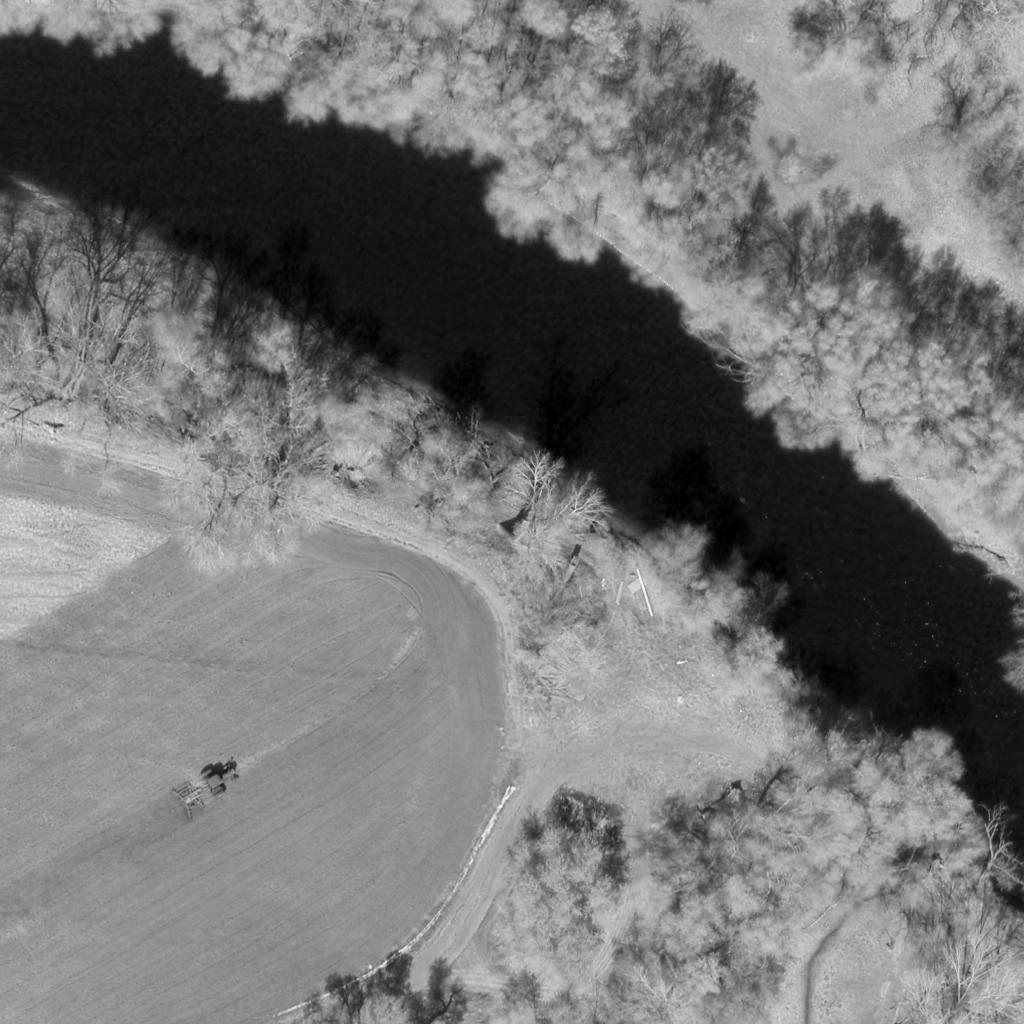vehicle: (195, 756, 245, 802)
